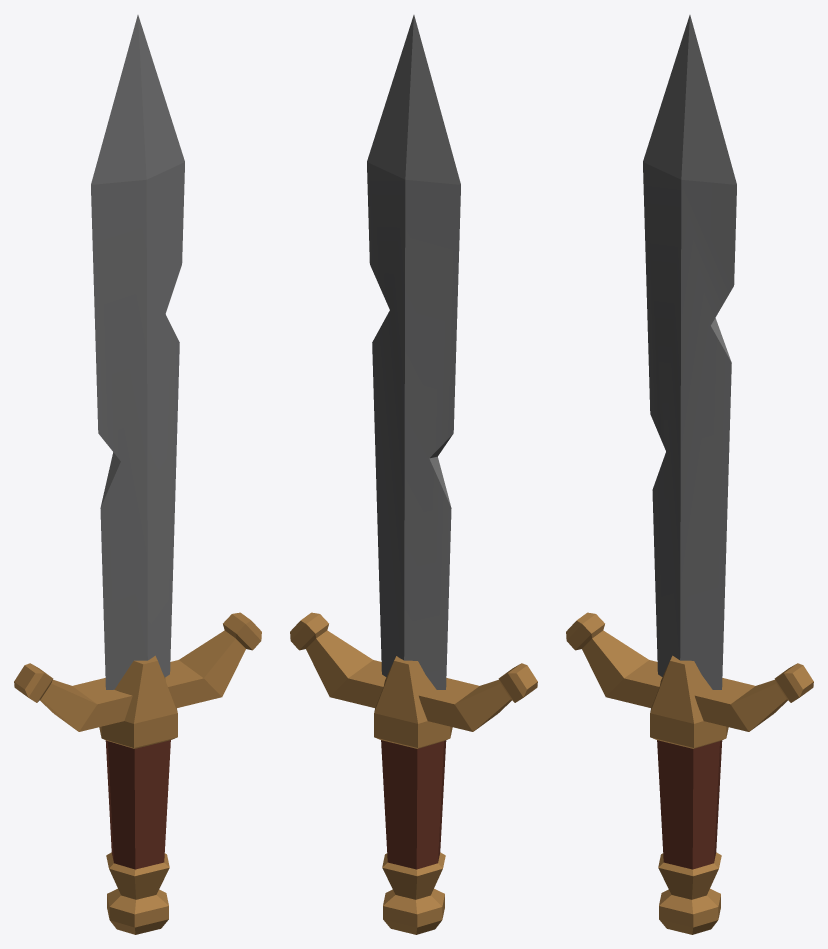
File: SM_Wep_Shortsword_01.glb
3 views of the same model, side by side, from view 1: azimuth 30°, elevation 25°; view 2: azimuth 150°, elevation 25°; view 3: azimuth 330°, elevation 25° (orthographic).
Visible parts, largest first — view 1: SM_Wep_Shortsword_01; view 2: SM_Wep_Shortsword_01; view 3: SM_Wep_Shortsword_01.
Part boxes in pixels (x1,y1,x2,y2): SM_Wep_Shortsword_01: (14,15,261,934); SM_Wep_Shortsword_01: (290,15,537,934); SM_Wep_Shortsword_01: (566,15,813,934).
Size of the model in its own units: 0.00227 by 0.00835 by 0.000594.
